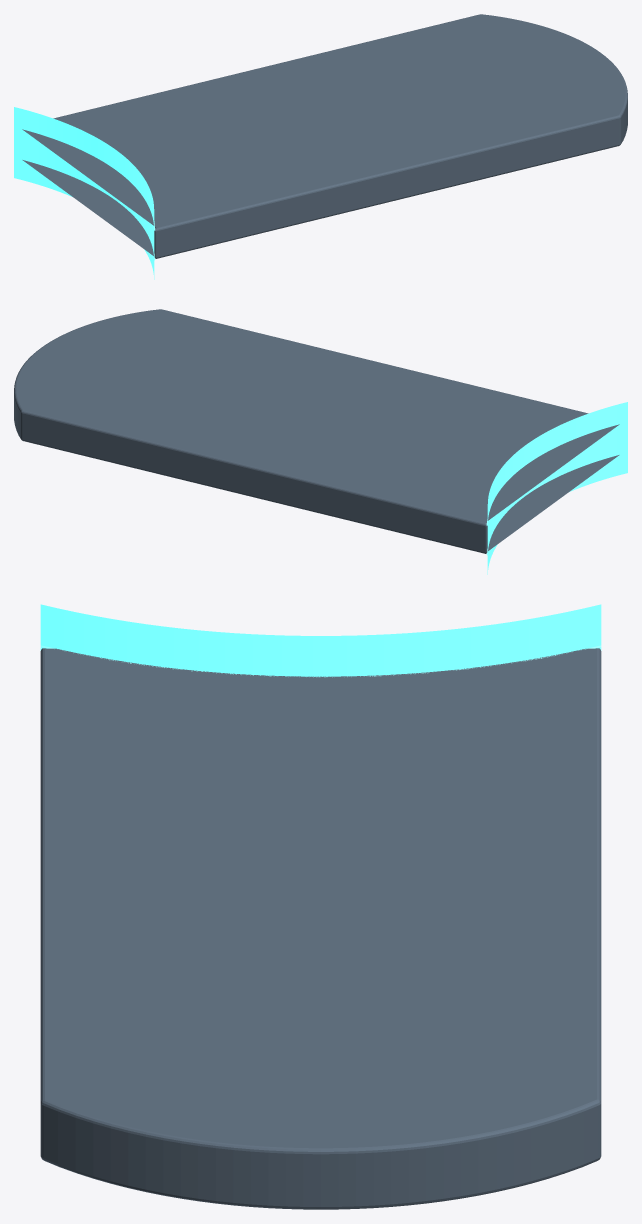
File: SciFiPlatform.fbx
The picture shows the model from 3 angles, top to bottom: view 1: azimuth 30°, elevation 25°; view 2: azimuth 150°, elevation 25°; view 3: azimuth 270°, elevation 25°; orthographic projection. The views are drawn at different scales.
Parts seen in each view (by area): view 1: Platform, Magnetic_Field; view 2: Platform, Magnetic_Field; view 3: Platform, Magnetic_Field.
Part boxes in pixels (box(x1,y1,x2,y2)): Platform: box(22, 14, 627, 258); Magnetic_Field: box(14, 107, 154, 279); Platform: box(14, 309, 619, 553); Magnetic_Field: box(487, 402, 627, 574); Platform: box(40, 648, 601, 1209); Magnetic_Field: box(40, 604, 601, 676).
Bounding box in the file's own units: 1066 × 140 × 500.
